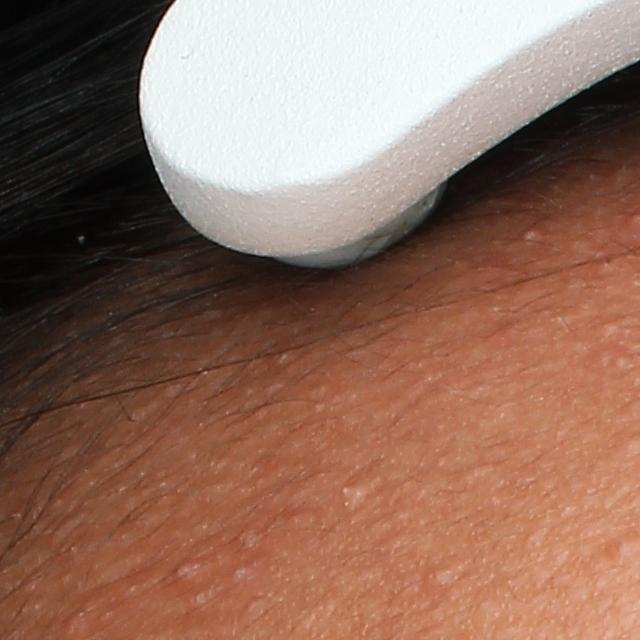comedo: (333, 477, 375, 513), (420, 564, 455, 602), (171, 558, 198, 584), (610, 536, 634, 561), (596, 317, 620, 341), (231, 564, 246, 584)
